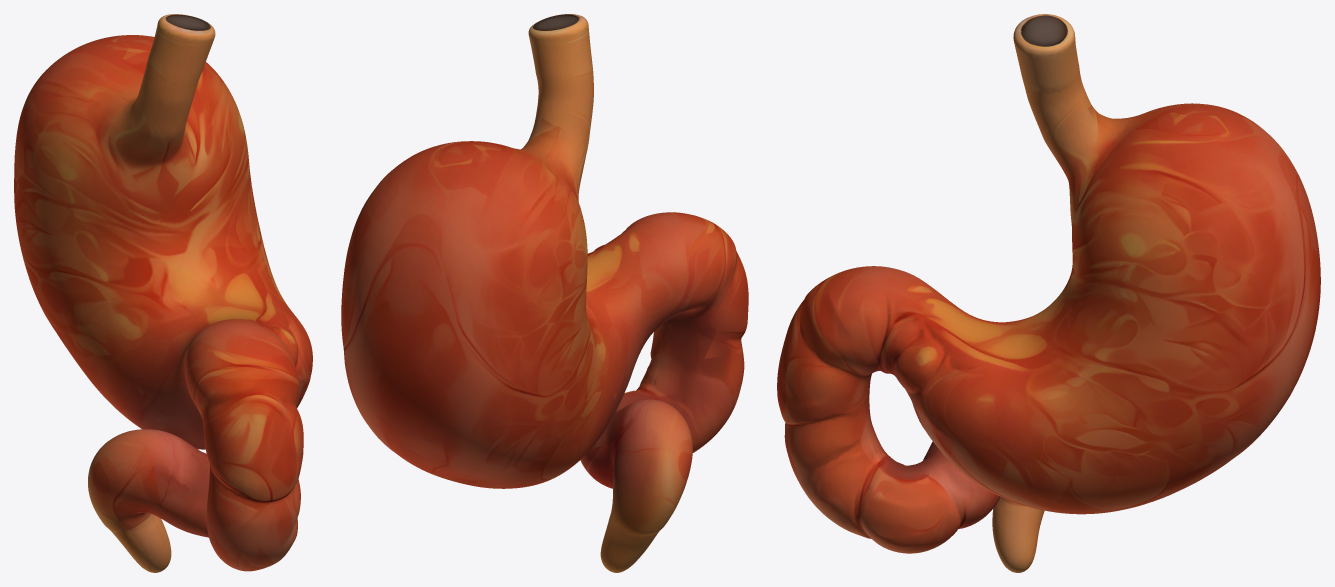
3 renders of one model, left to right at view 1: azimuth 30°, elevation 25°; view 2: azimuth 150°, elevation 25°; view 3: azimuth 270°, elevation 25°, orthographic. The views are drawn at different scales.
Visible parts, largest first — view 1: tripo_node_1c0707d5-f0c3-4134-80a4-65051d783281; view 2: tripo_node_1c0707d5-f0c3-4134-80a4-65051d783281; view 3: tripo_node_1c0707d5-f0c3-4134-80a4-65051d783281.
Boxes of the visible parts, box(x1,y1,x2,y2) form: tripo_node_1c0707d5-f0c3-4134-80a4-65051d783281: box(14, 14, 312, 572); tripo_node_1c0707d5-f0c3-4134-80a4-65051d783281: box(341, 14, 748, 572); tripo_node_1c0707d5-f0c3-4134-80a4-65051d783281: box(777, 14, 1320, 572).
Bounding box in the file's own units: 0.4519 × 0.9999 × 0.8647.
Materials: 1 (1 with a texture image).
